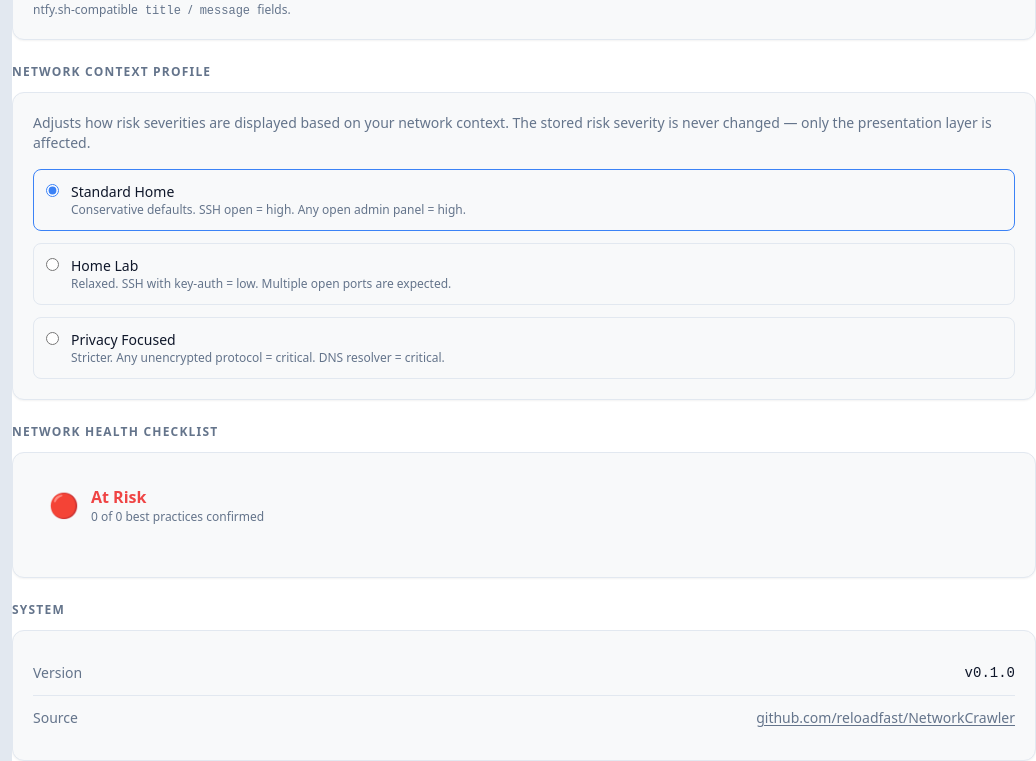
Scenario: SettingsPage › shows version copy button and flashes ✓ on click
(page scrolled)
Click the button "v0.1.0": (990, 673) [965, 663, 1015, 683]
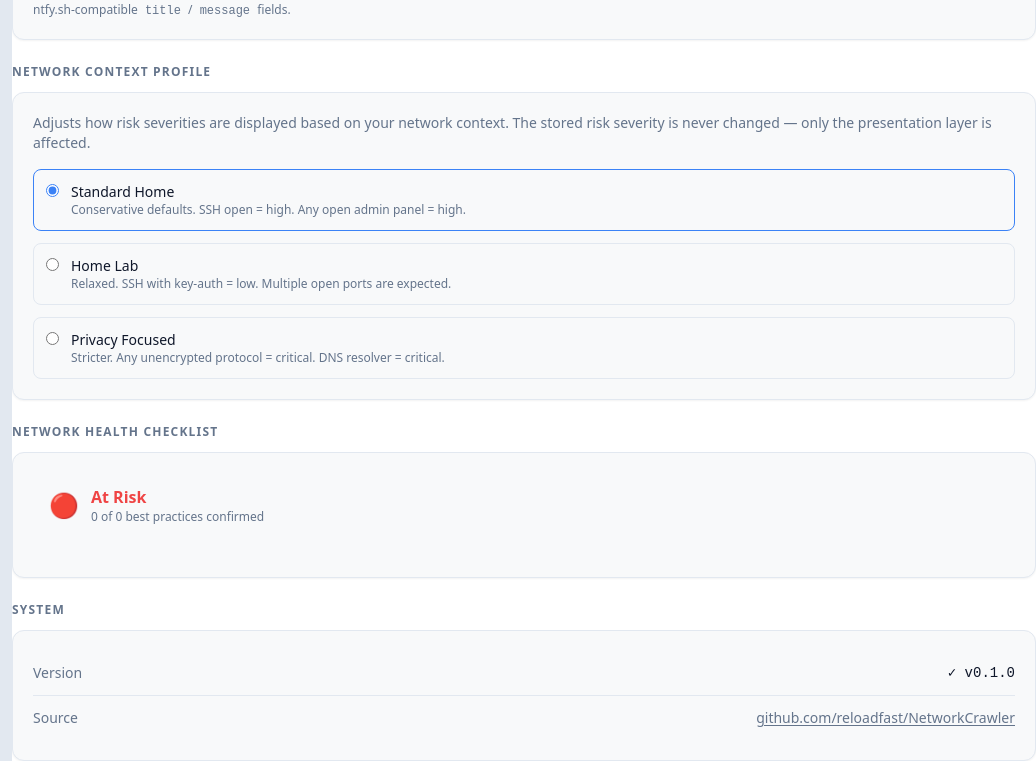
Now the button "✓ v0.1.0" is shown, box [948, 663, 1015, 683]
